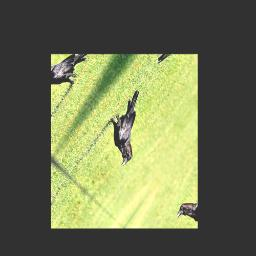Crow: (94, 84, 164, 171)
